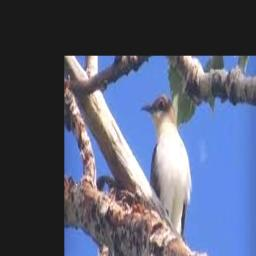Cuckoo: (139, 95, 192, 237)
